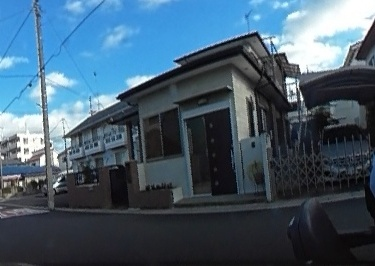person: (365, 29, 375, 265)
